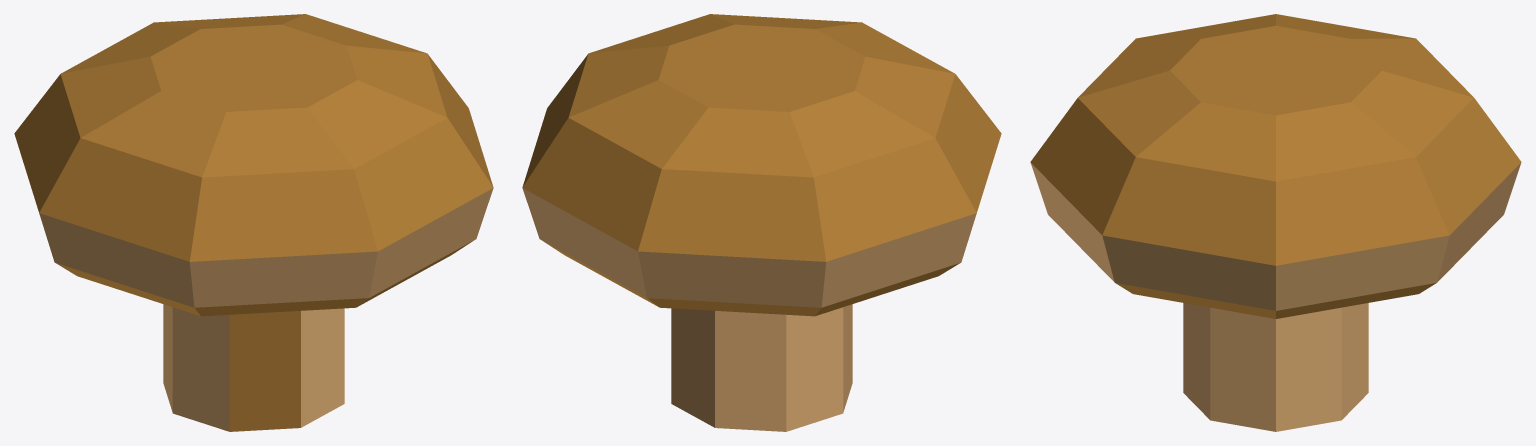
File: free3d-mushroom.glb
3 views of the same model, side by side, from view 1: azimuth 30°, elevation 25°; view 2: azimuth 150°, elevation 25°; view 3: azimuth 270°, elevation 25° (orthographic).
Parts seen in each view (by area): view 1: Mushroom1.1; view 2: Mushroom1.1; view 3: Mushroom1.1.
Part boxes in pixels (box(x1,y1,x2,y2)): Mushroom1.1: box(14, 14, 493, 431); Mushroom1.1: box(522, 14, 1001, 431); Mushroom1.1: box(1030, 14, 1521, 431).
Bounding box in the file's own units: 0.5804 × 0.42 × 0.5804.
